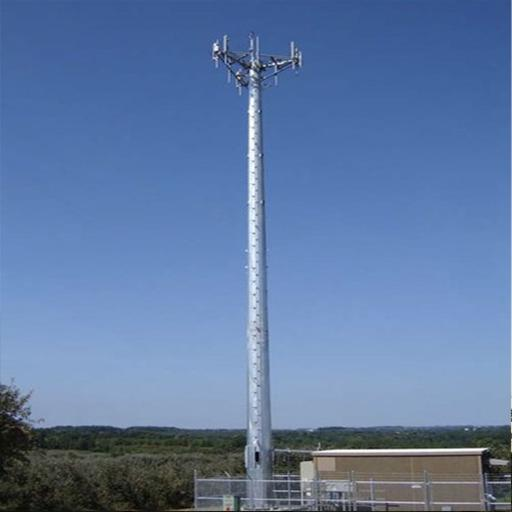monopole_tower: (210, 31, 304, 509)
